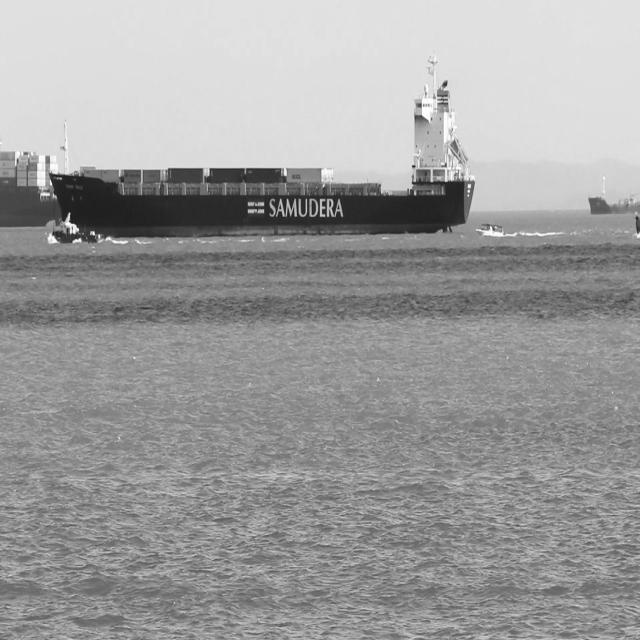ship: (49, 49, 476, 239), (0, 148, 59, 228), (588, 177, 640, 216), (52, 212, 104, 245), (474, 222, 506, 238), (634, 212, 640, 241)
